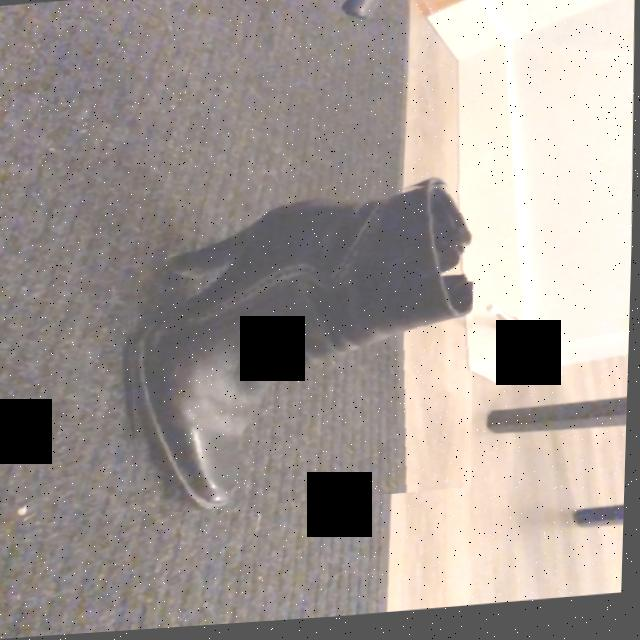shoe: (132, 190, 475, 513)
